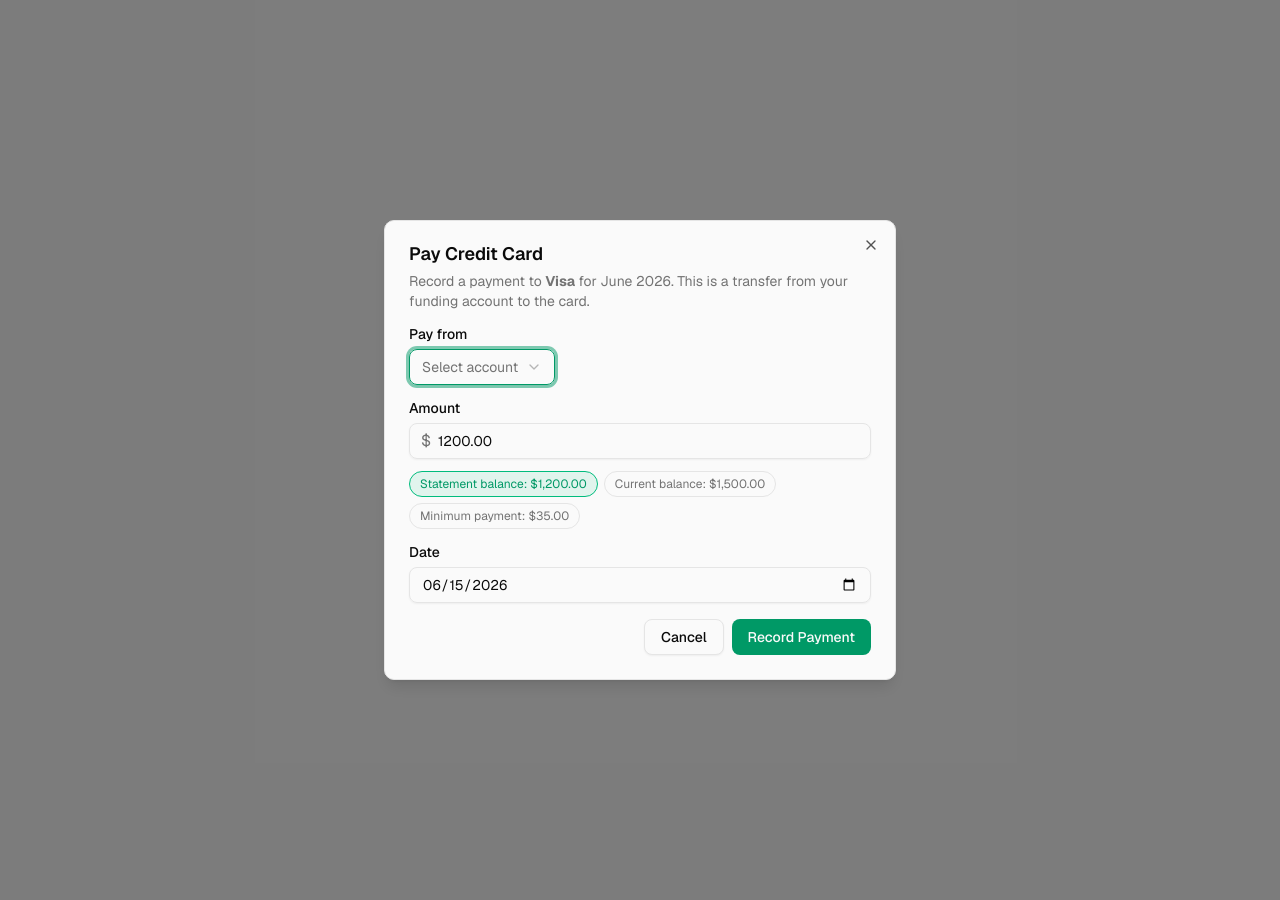
Scenario: CreditCardPaymentDialog › updates the amount when a preset is clicked
This screenshot has width=1280, height=900.
Click the button "Minimum payment: $35.00".
click(495, 516)  # box [409,503,580,529]
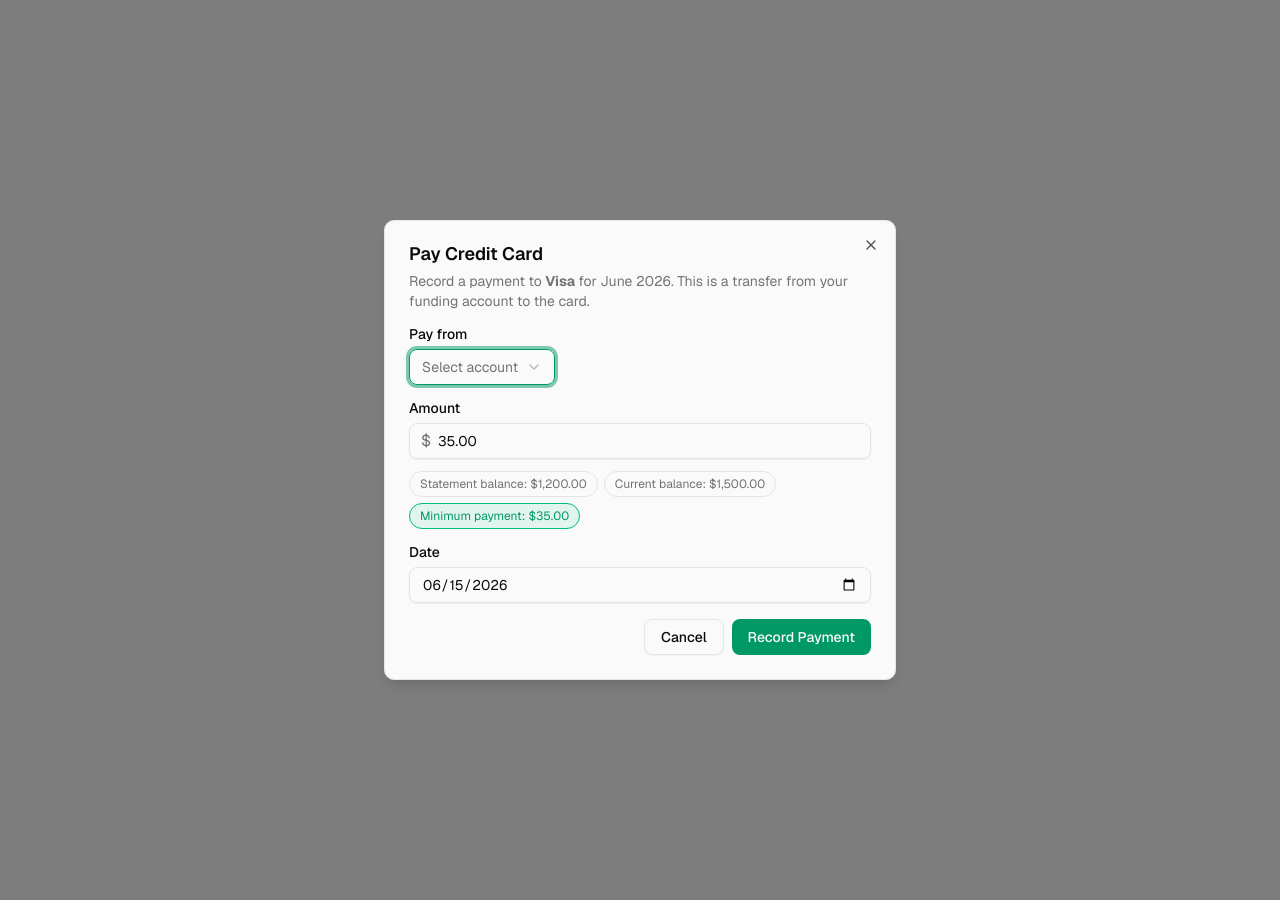
Expected: the number field labelled "Amount" holds "35", [409,423,871,459]
